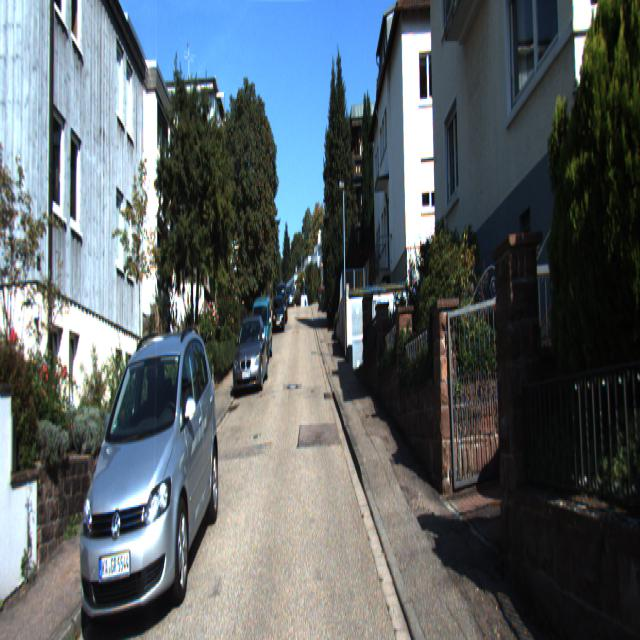Car: (68, 320, 222, 632), (232, 316, 270, 396), (249, 297, 273, 365), (272, 298, 286, 334)
